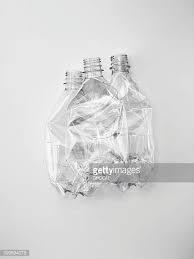bottle: (64, 52, 132, 186), (42, 66, 102, 200), (106, 49, 155, 187)
